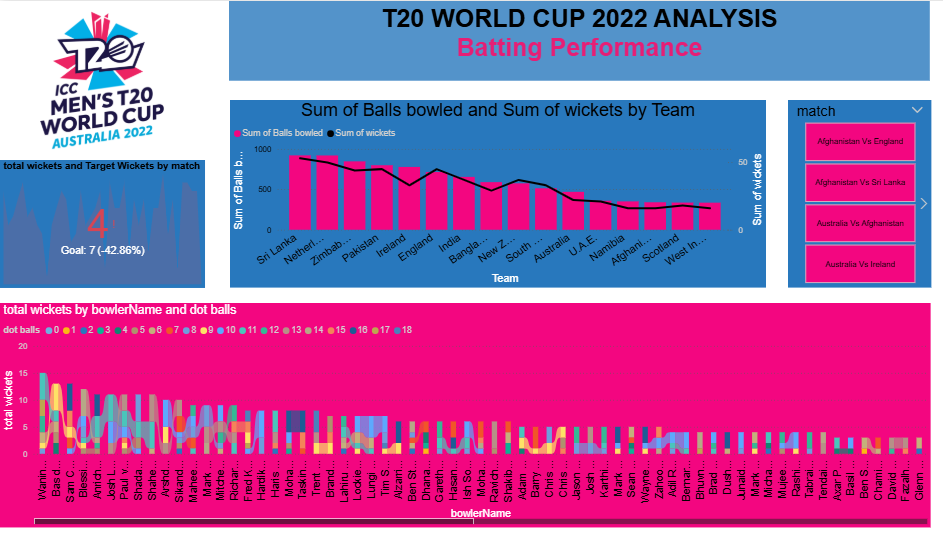

What the dashboard file says about the page in this screenshot:
{"tool":"powerbi","page":{"name":"Bowling Performance","canvas":[1440,831],"ordinal":2},"visuals":[{"type":"textbox","box":[342.3,0,1046.2,119.2],"z":0},{"type":"image","box":[0,0,305.8,236.5],"z":1000},{"type":"lineClusteredColumnComboChart","fields":{"Category":["bowling_summary.Team"],"Y2":["bowling_summary.wickets"],"Y":["bowling_summary.Balls bowled"]},"box":[343.1,147.7,800,280],"z":3000},{"type":"ribbonChart","fields":{"Category":["bowling_summary.bowlerName"],"Series":["bowling_summary.dot balls"],"Y":["measures table.total wickets"]},"box":[0,450.8,1389.2,335.4],"z":4000},{"type":"kpi","fields":{"Indicator":["measures table.total wickets"],"TrendLine":["bowling_summary.match"],"Goal":["measures table.Target Wickets"]},"box":[0,236.9,306.2,190.8],"z":5000},{"type":"slicer","fields":{"Values":["bowling_summary.match"]},"box":[1175.4,147.7,213.8,280],"z":6000}]}

Visuals, with their boxes in screenshot pixels (x1, y1, x2, y2), scaled from the page's 1440x831 canvas onto the 943x533 screenshot:
textbox: crop(224, 0, 909, 76)
image: crop(0, 0, 200, 152)
lineClusteredColumnComboChart - bowling_summary.Team x bowling_summary.wickets: crop(225, 95, 749, 274)
ribbonChart - bowling_summary.bowlerName x bowling_summary.dot balls: crop(0, 289, 910, 504)
kpi - measures table.total wickets x bowling_summary.match: crop(0, 152, 201, 274)
slicer - bowling_summary.match: crop(770, 95, 910, 274)
